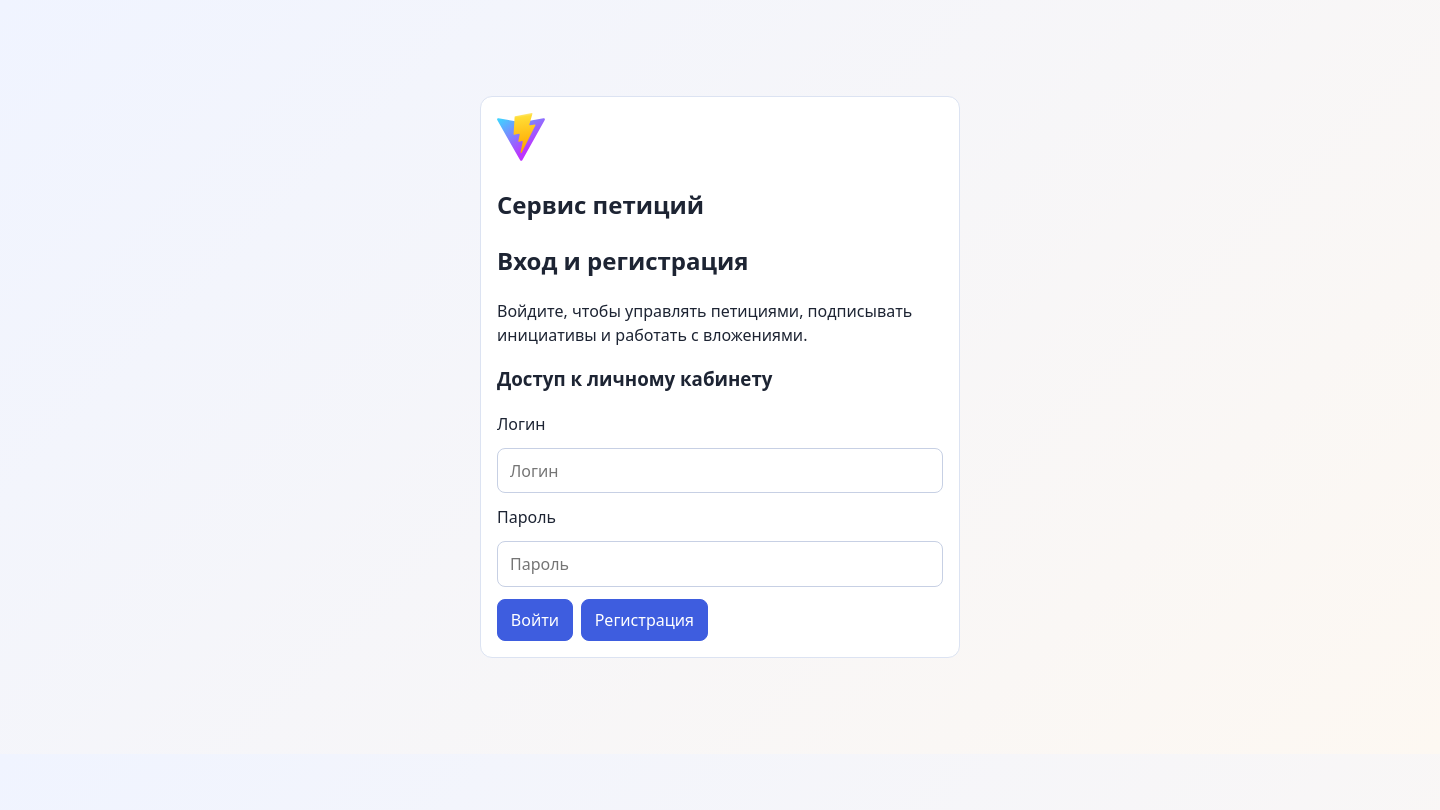
it: LoginPage › shows a login error when authentication fails
Step 1. Type "alice" into the field labelled "Логин" → (720, 471), box [497,448,943,493]
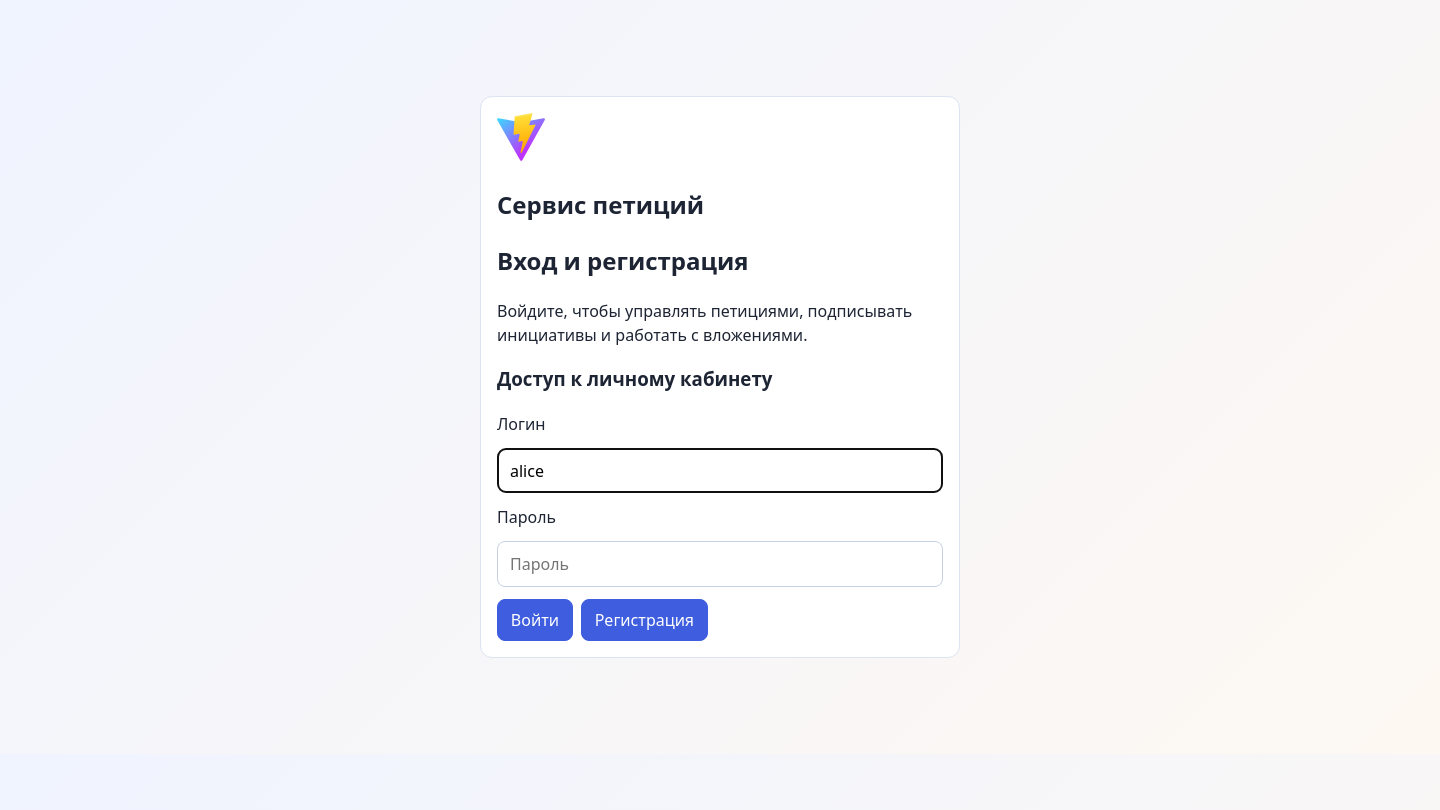
Step 2. Type "wrong" into the password field labelled "Пароль" → (720, 564), box [497,541,943,587]
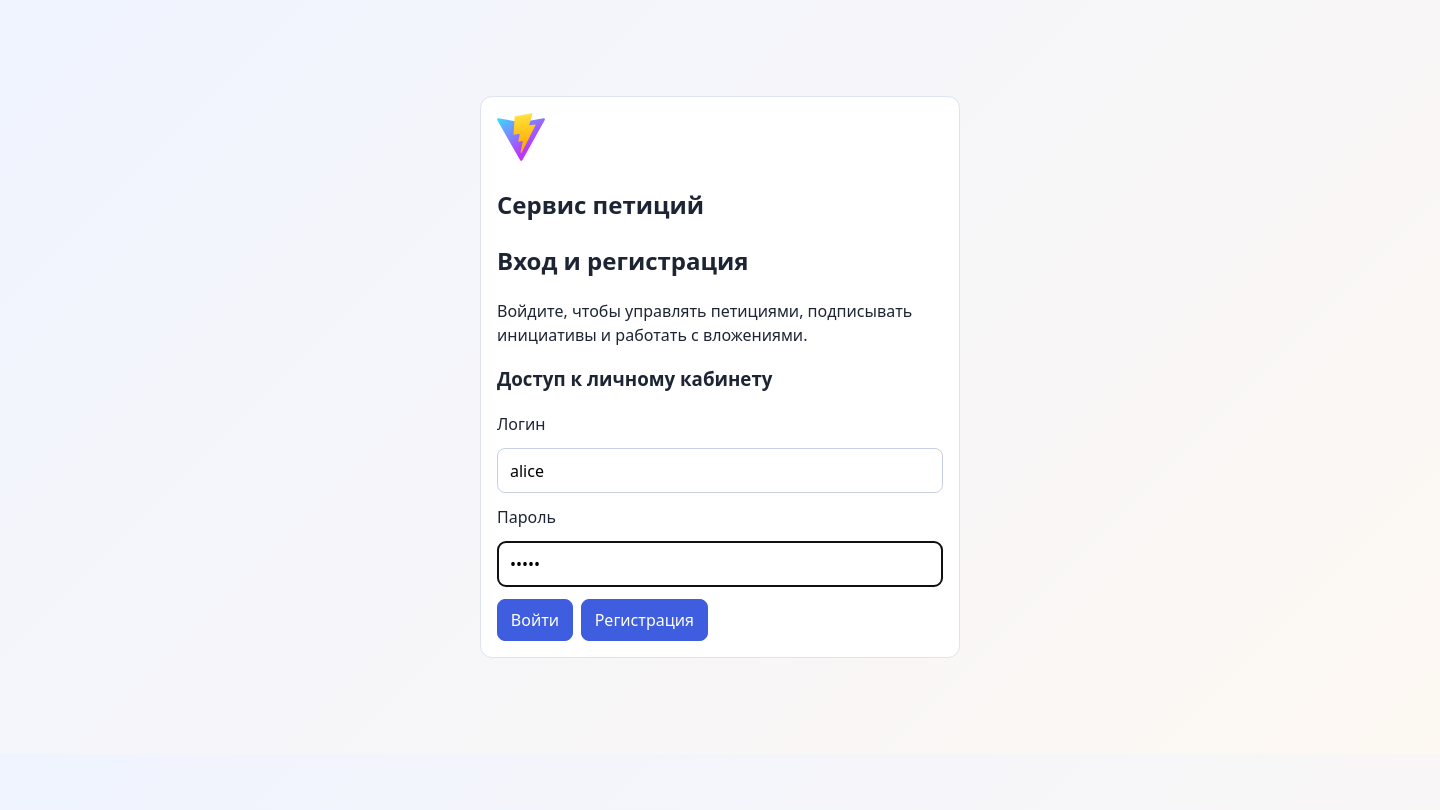
Step 3. Click the button "Войти" → (535, 620), box [497,599,573,641]
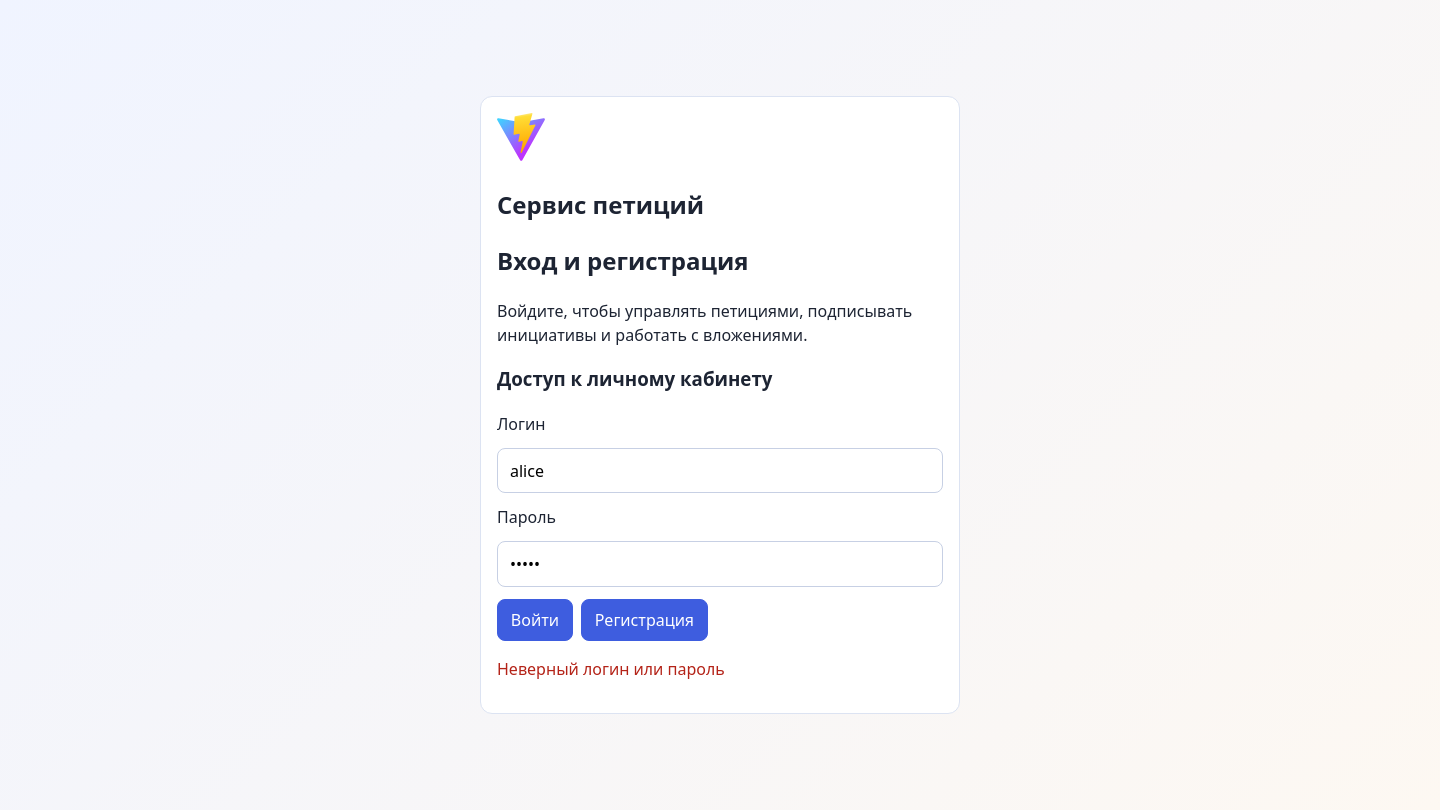
expect the text "Неверный логин или пароль" is shown: met, box [497,658,725,680]
